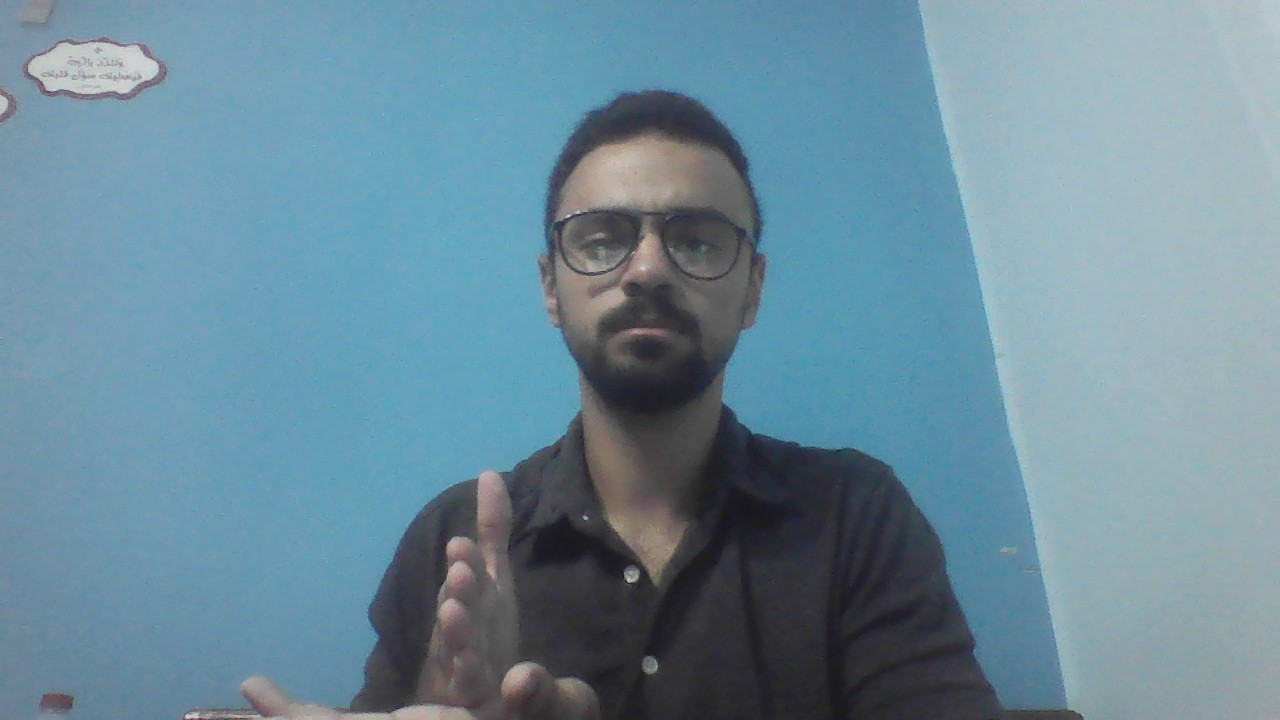stop: (238, 469, 594, 720)
